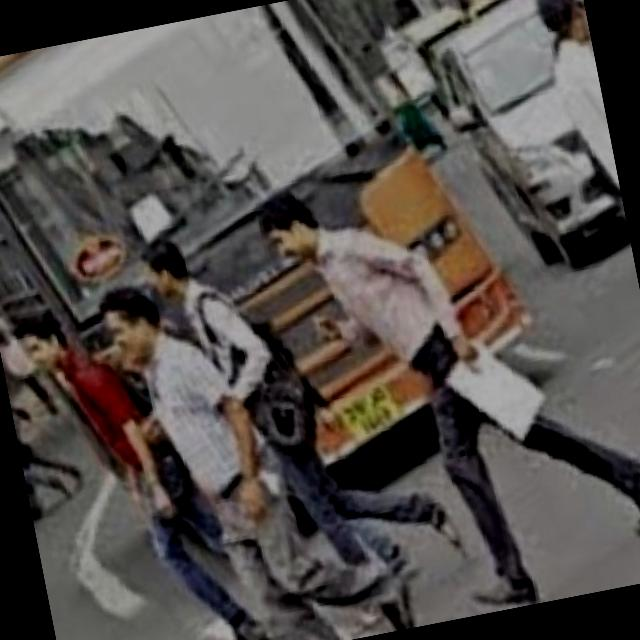Person: (253, 133, 640, 640), (138, 186, 484, 620), (89, 235, 432, 640), (7, 252, 256, 640)
